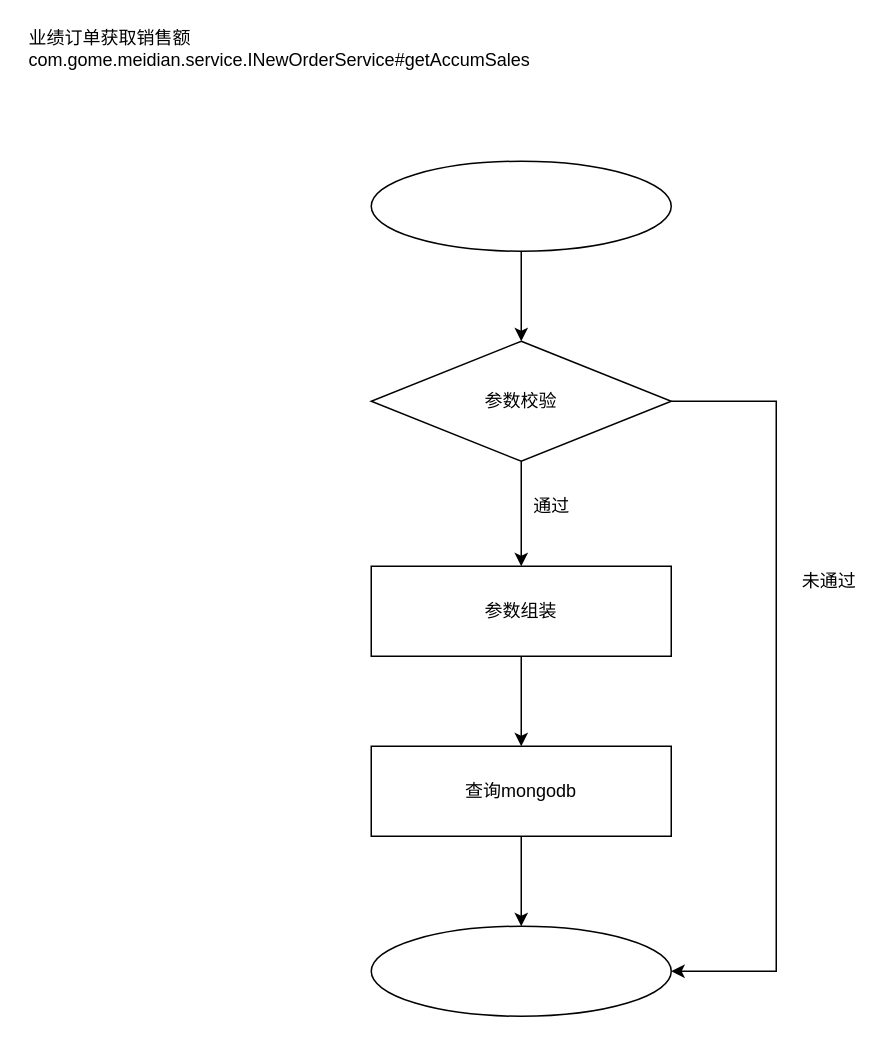
Image size: 891x1043. Some labels were removed from this diagram. Each missing label, with the centre of its shape:
开始: point (520, 205)
结束: point (520, 970)
